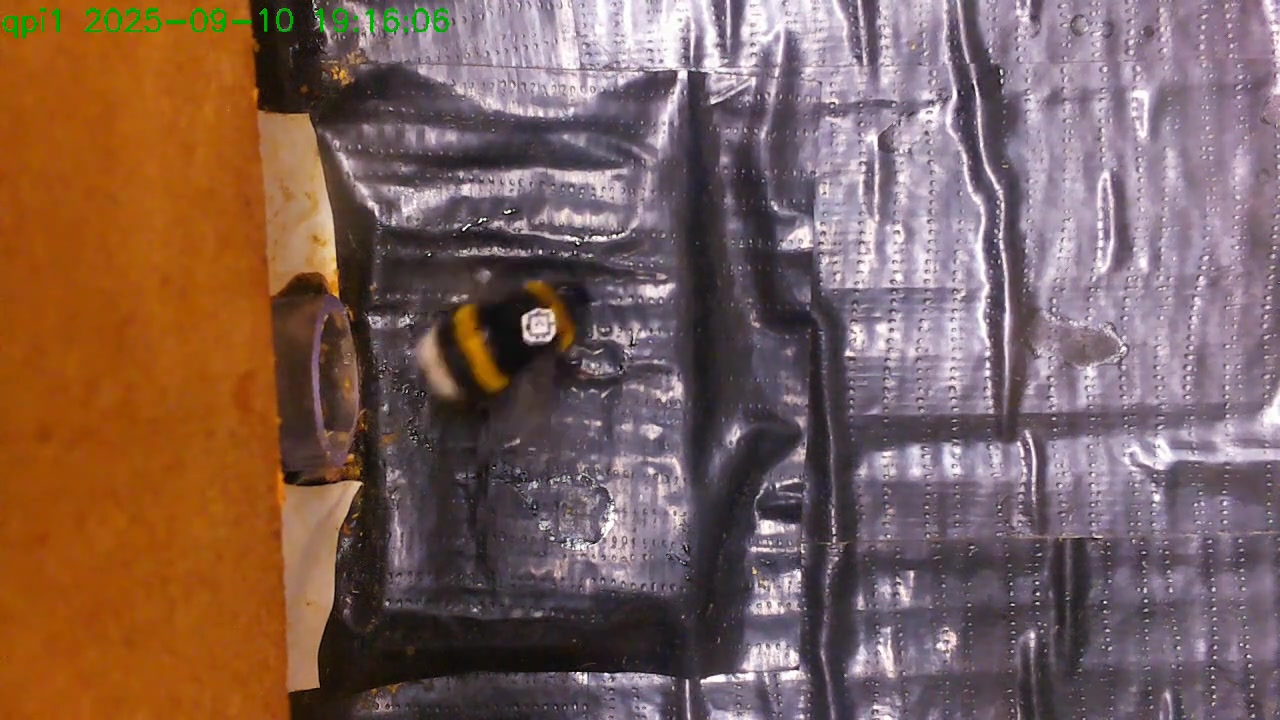bee: (398, 247, 606, 469)
